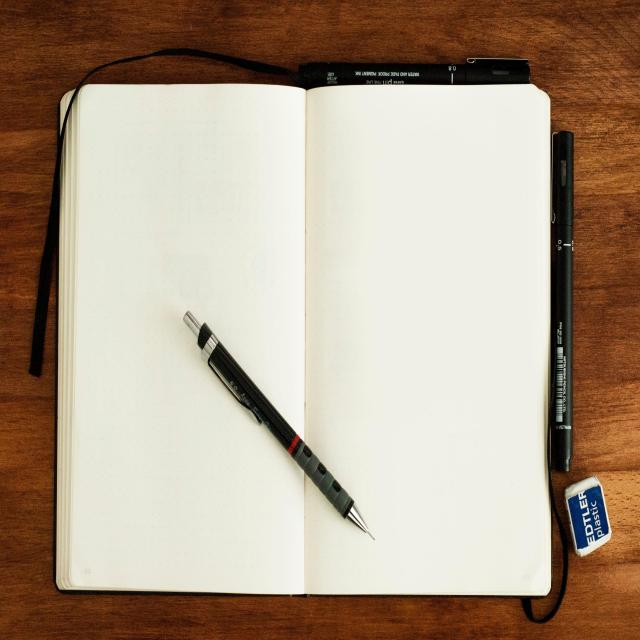paper: (54, 82, 554, 598)
